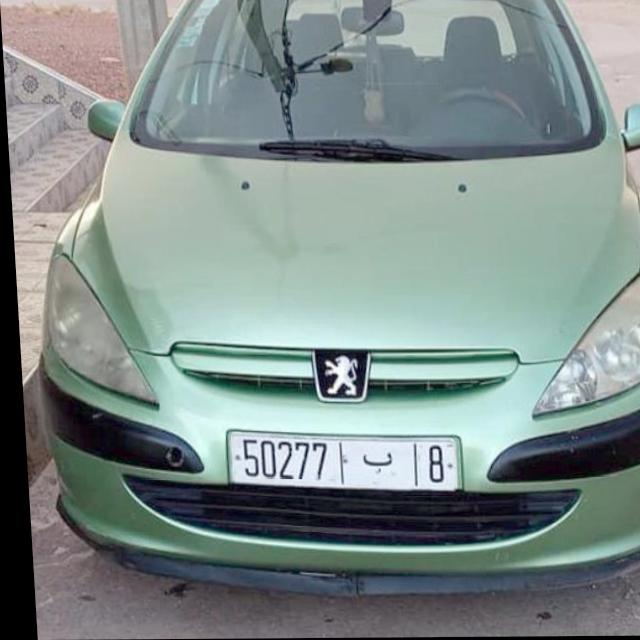License-Plate: (223, 432, 454, 491)
